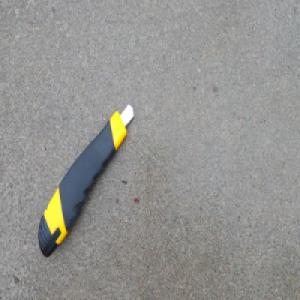Cutter: (38, 103, 135, 260)
